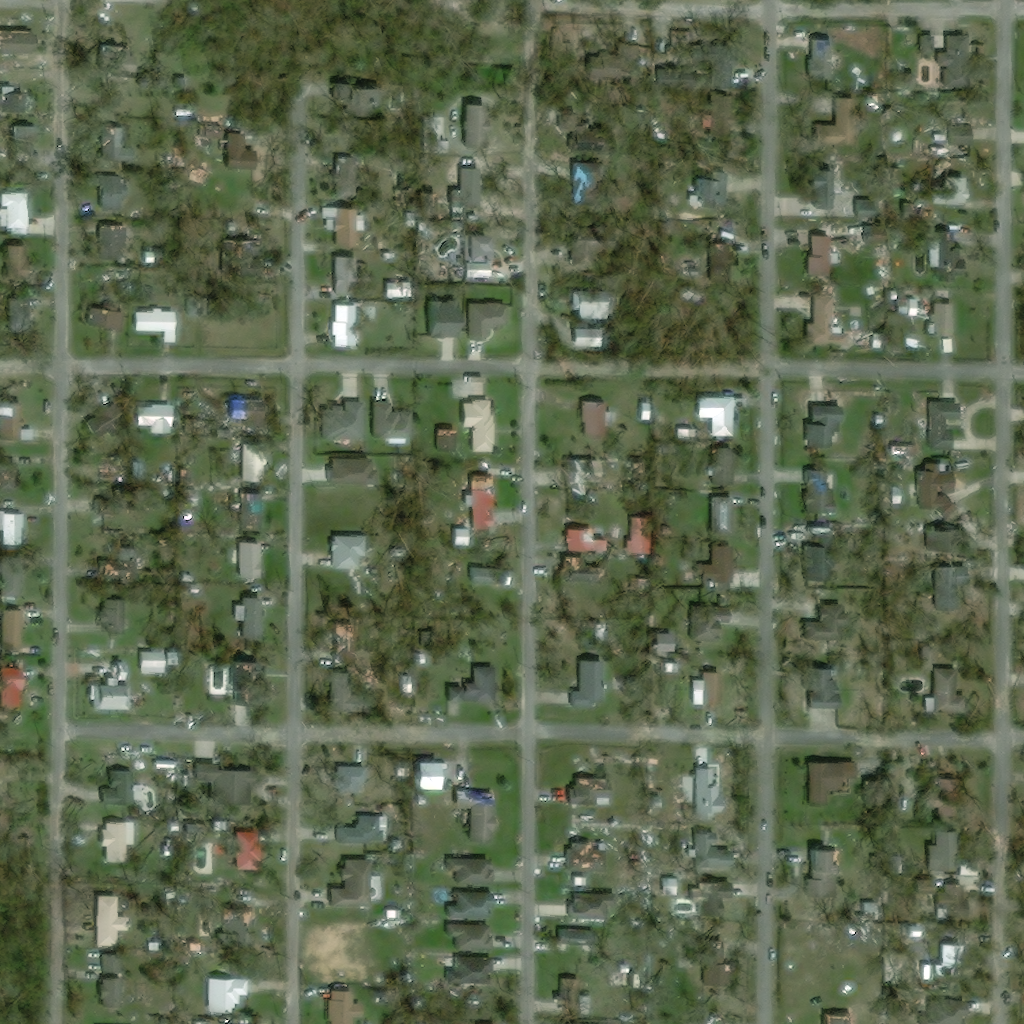major_damage: (195, 114, 256, 171), (95, 544, 144, 581)
minor_damage: (454, 789, 498, 843), (464, 472, 497, 531), (228, 487, 265, 533), (568, 776, 615, 808), (224, 395, 268, 427), (99, 220, 132, 261), (568, 841, 610, 873), (446, 959, 495, 986), (0, 79, 36, 115), (223, 907, 250, 943), (89, 307, 126, 333), (0, 30, 36, 55), (436, 425, 458, 452), (821, 1008, 854, 1023)
no_damage: (783, 287, 883, 358), (924, 830, 1005, 896), (786, 164, 866, 219), (899, 753, 955, 822), (896, 293, 957, 354), (83, 660, 150, 711), (560, 290, 618, 345), (307, 442, 379, 486), (684, 165, 742, 219), (918, 32, 971, 90), (439, 232, 497, 280), (0, 190, 60, 236), (566, 875, 626, 921), (82, 819, 138, 867), (803, 666, 844, 731), (331, 857, 379, 911), (919, 395, 963, 452), (310, 298, 359, 347), (467, 293, 515, 343), (321, 393, 365, 445), (0, 392, 46, 441), (807, 761, 857, 806), (82, 126, 141, 164), (321, 206, 369, 252), (911, 457, 950, 513), (571, 658, 610, 709), (694, 766, 727, 826), (96, 895, 134, 947), (691, 543, 738, 585), (805, 36, 844, 86), (0, 605, 44, 649), (197, 758, 245, 798), (695, 388, 735, 436), (462, 397, 497, 451), (919, 993, 982, 1023), (449, 665, 498, 703), (371, 400, 415, 442), (810, 596, 856, 636), (691, 830, 731, 876), (111, 55, 141, 116), (564, 555, 608, 594), (94, 170, 131, 215), (424, 290, 460, 336), (937, 228, 966, 285), (134, 307, 178, 344), (328, 534, 370, 572), (805, 408, 848, 445), (801, 465, 834, 513), (558, 923, 612, 952), (803, 848, 843, 887), (446, 923, 495, 954), (208, 977, 250, 1013), (233, 594, 268, 637), (445, 855, 495, 885), (101, 765, 134, 810), (97, 597, 135, 636), (233, 441, 268, 483), (338, 815, 388, 844), (661, 877, 698, 916), (444, 891, 494, 919), (709, 47, 739, 92), (690, 605, 722, 646), (327, 988, 364, 1023), (468, 565, 515, 592), (1, 243, 33, 280), (806, 544, 838, 581), (235, 540, 263, 581), (933, 176, 972, 205), (710, 495, 738, 535), (97, 972, 125, 1010), (933, 942, 964, 976), (583, 400, 612, 436), (235, 830, 261, 870), (691, 670, 716, 711), (778, 523, 823, 544), (86, 405, 117, 435), (0, 500, 23, 540), (427, 116, 452, 152), (944, 125, 972, 155), (807, 234, 831, 269), (621, 518, 643, 556), (934, 670, 955, 709), (0, 666, 25, 698), (137, 403, 173, 424), (561, 526, 590, 551), (712, 449, 732, 485), (466, 102, 487, 136), (2, 564, 22, 598), (456, 380, 491, 399), (814, 123, 843, 145), (610, 963, 633, 989), (343, 764, 363, 793), (138, 650, 164, 672), (731, 572, 766, 587), (16, 122, 42, 141), (578, 627, 599, 649), (104, 953, 127, 973), (393, 673, 416, 692), (889, 444, 921, 457), (682, 945, 697, 971), (708, 883, 733, 898), (454, 527, 473, 546), (951, 537, 972, 553), (889, 484, 903, 505), (638, 401, 652, 417), (387, 908, 405, 920), (228, 1018, 245, 1023)
